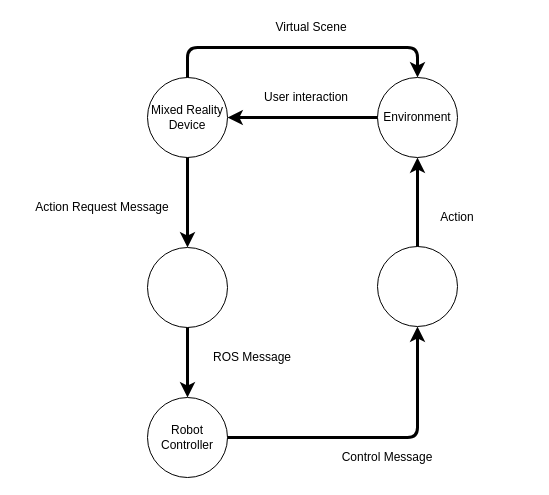
The diagram is 549 pixels wide and 495 high, and some of its shapes have lost their labels. The shapes that lost their labels are listed below. From the top down, each one's centre as x and y in pixels, then its label:
the point at 187,287: Ros Bridge
the point at 417,286: Robot
